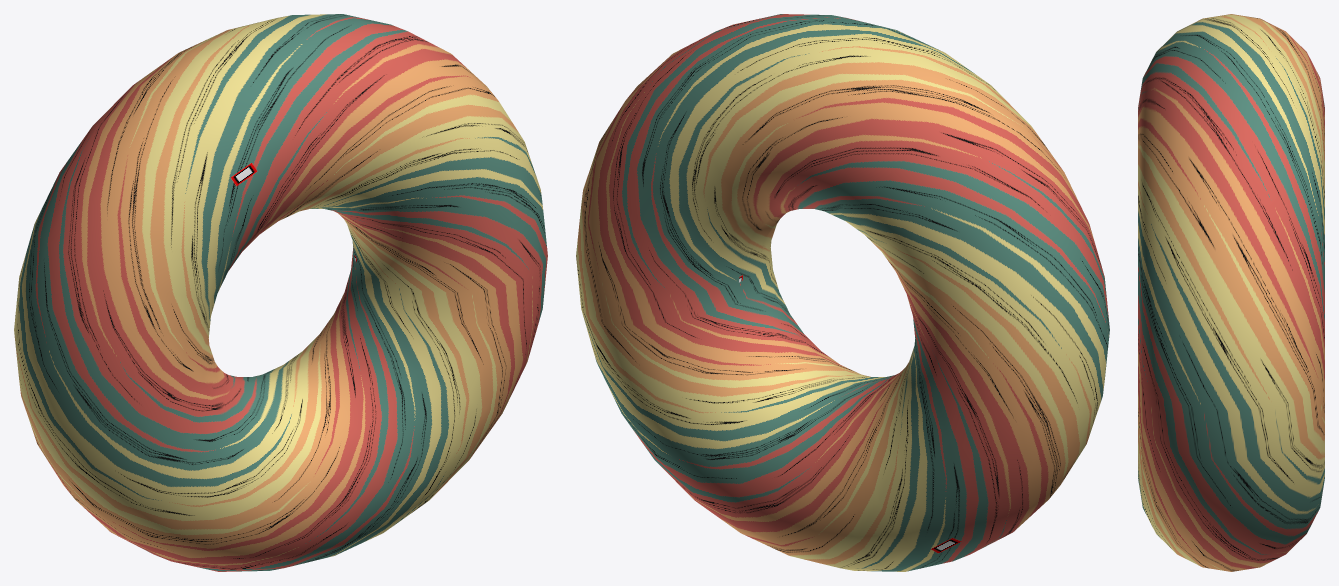
Rendered from uv_checkerboard_res_1024_iter_2.glb.
3 renders of one model, left to right at view 1: azimuth 30°, elevation 25°; view 2: azimuth 150°, elevation 25°; view 3: azimuth 270°, elevation 25°, orthographic. The views are drawn at different scales.
Visible parts, largest first — view 1: Node; view 2: Node; view 3: Node.
Boxes of the visible parts, x1,y1,x2,y2 form: Node: (14,14,547,571); Node: (576,14,1109,571); Node: (1138,14,1324,571).
Bounding box in the file's own units: 3 × 2.98 × 1.
Materials: 1 (1 with a texture image).
